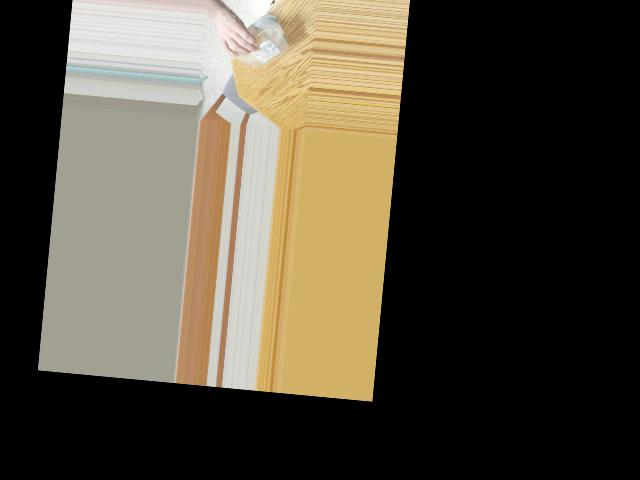cheese: (222, 12, 291, 69)
